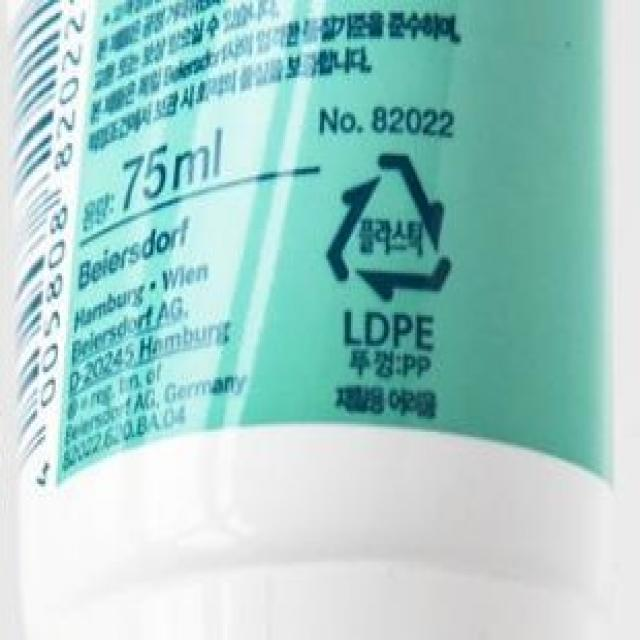Plastic: (324, 150, 455, 310)
